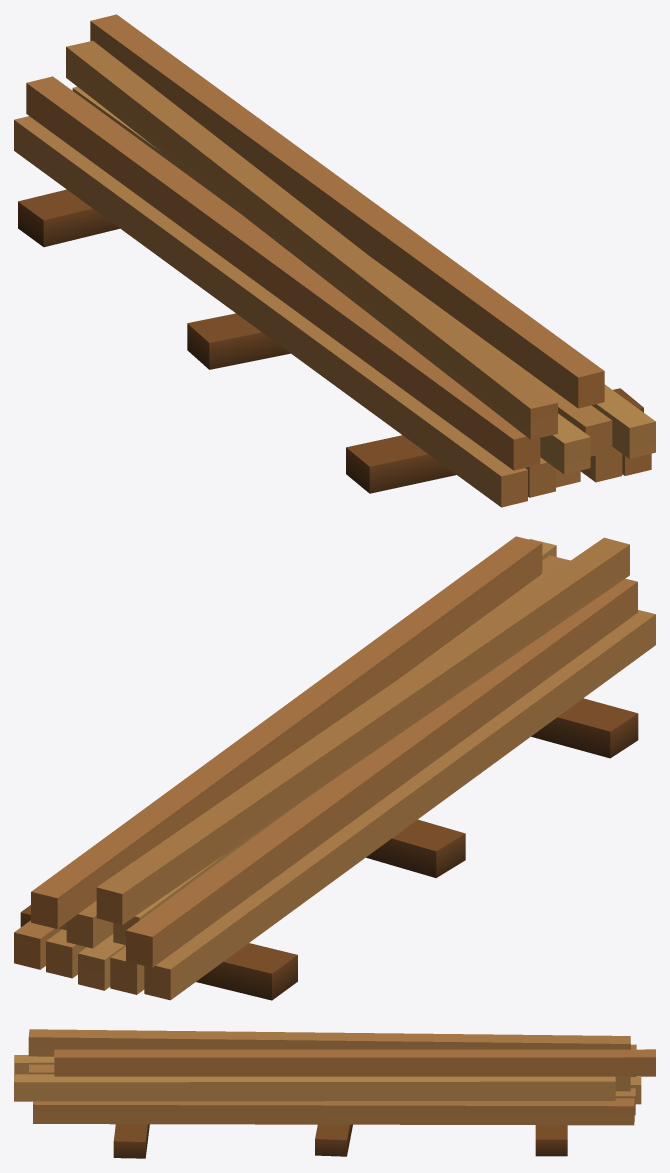
The model's file is WoodStock_1.fbx.
3 views of the same model, one above another, from view 1: azimuth 30°, elevation 25°; view 2: azimuth 150°, elevation 25°; view 3: azimuth 270°, elevation 25° (orthographic). The views are drawn at different scales.
Visible parts, largest first — view 1: WoodStock_1; view 2: WoodStock_1; view 3: WoodStock_1.
Boxes of the visible parts, x1,y1,x2,y2 form: WoodStock_1: [14, 14, 655, 507]; WoodStock_1: [14, 536, 655, 1000]; WoodStock_1: [14, 1029, 655, 1158].
Size of the model in its own units: 108 by 46.05 by 362.
